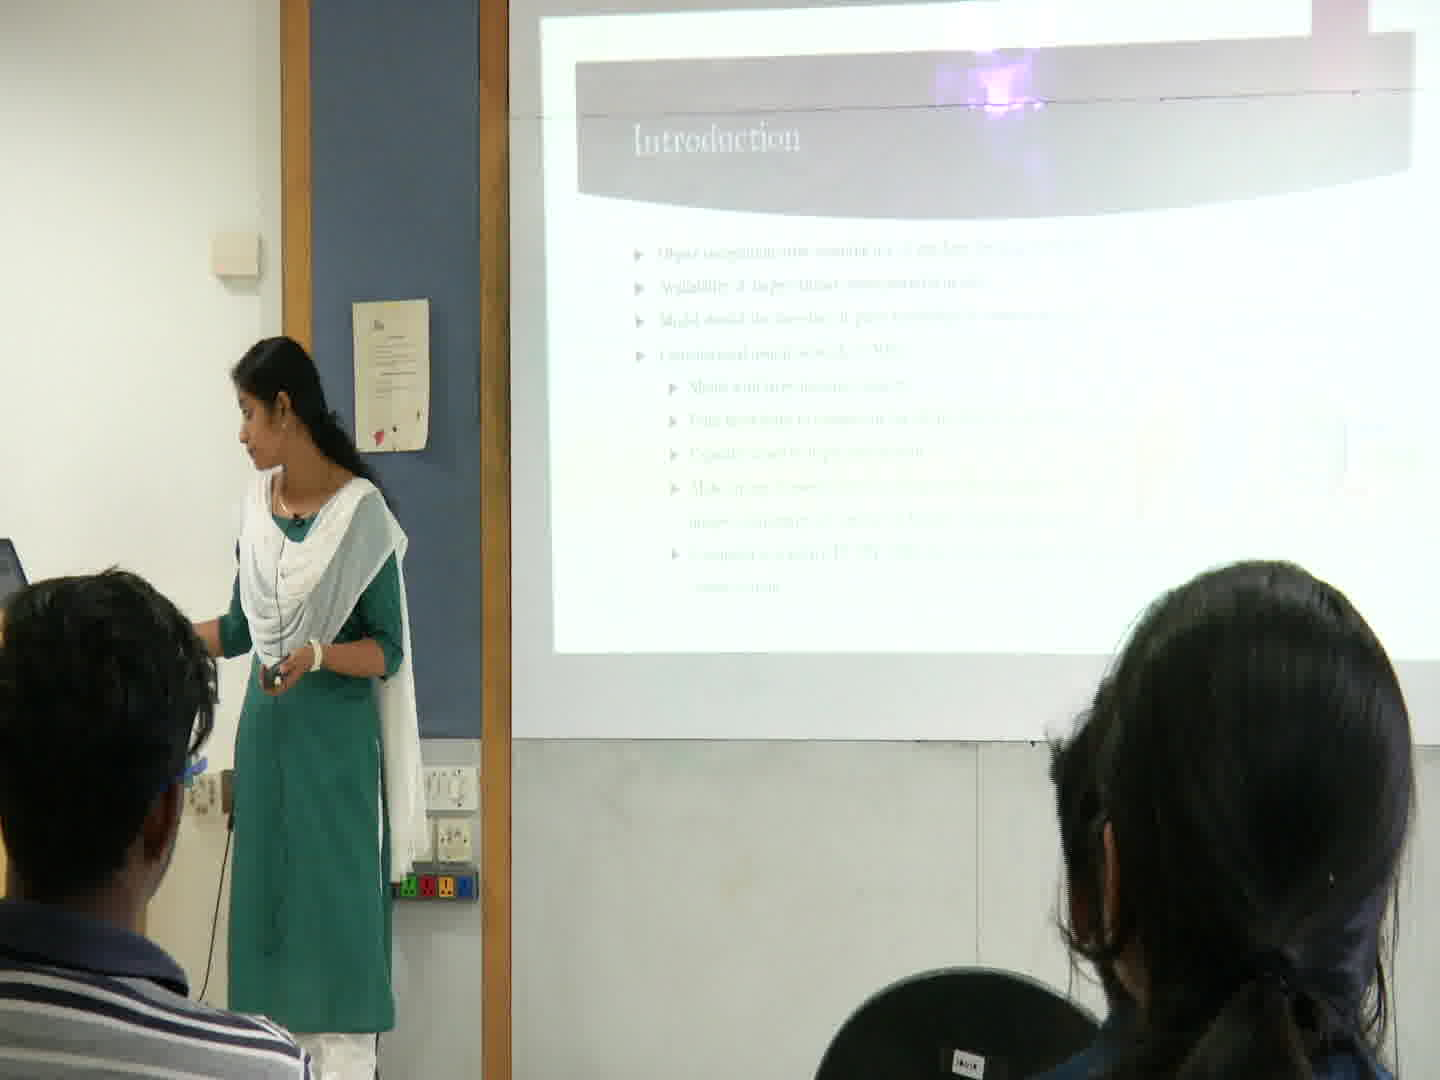slide: (541, 5, 1440, 660)
